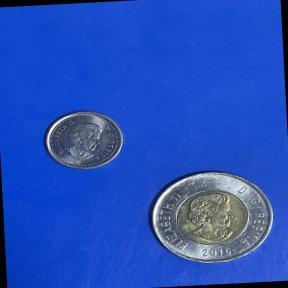coin: (143, 165, 282, 272), (38, 104, 131, 176)
